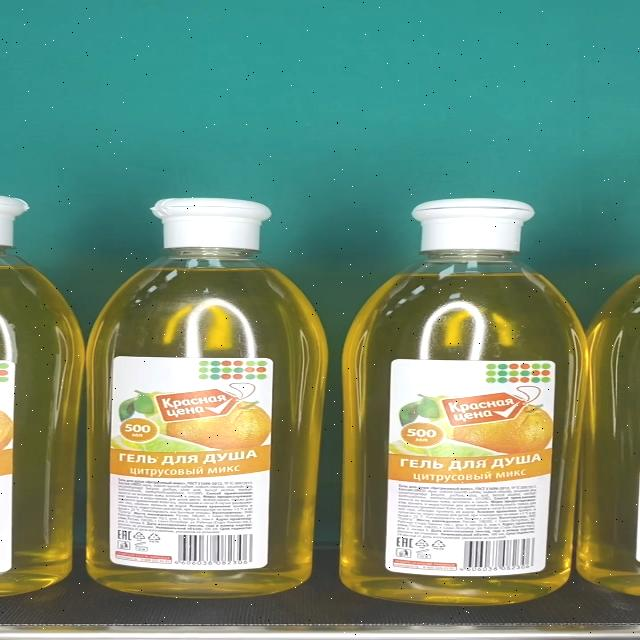Bottle: (340, 198, 586, 603), (82, 198, 328, 598)
Cap: (412, 199, 536, 252), (152, 198, 271, 249)
